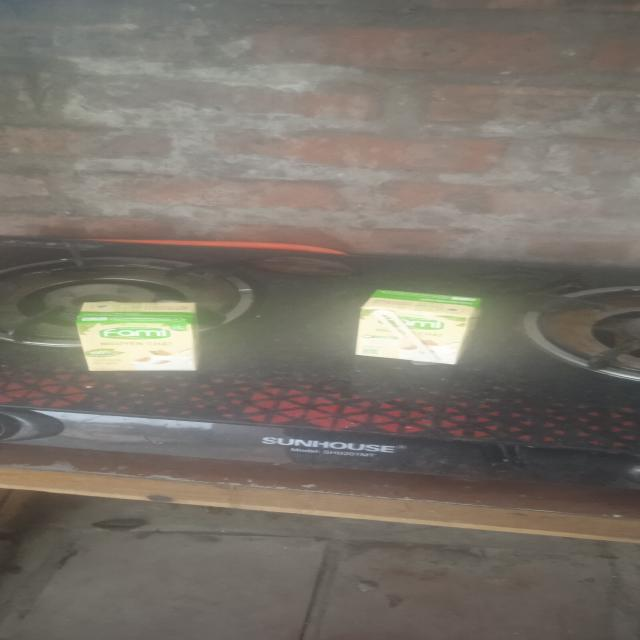Fami: (353, 290, 485, 371), (73, 300, 210, 375)
